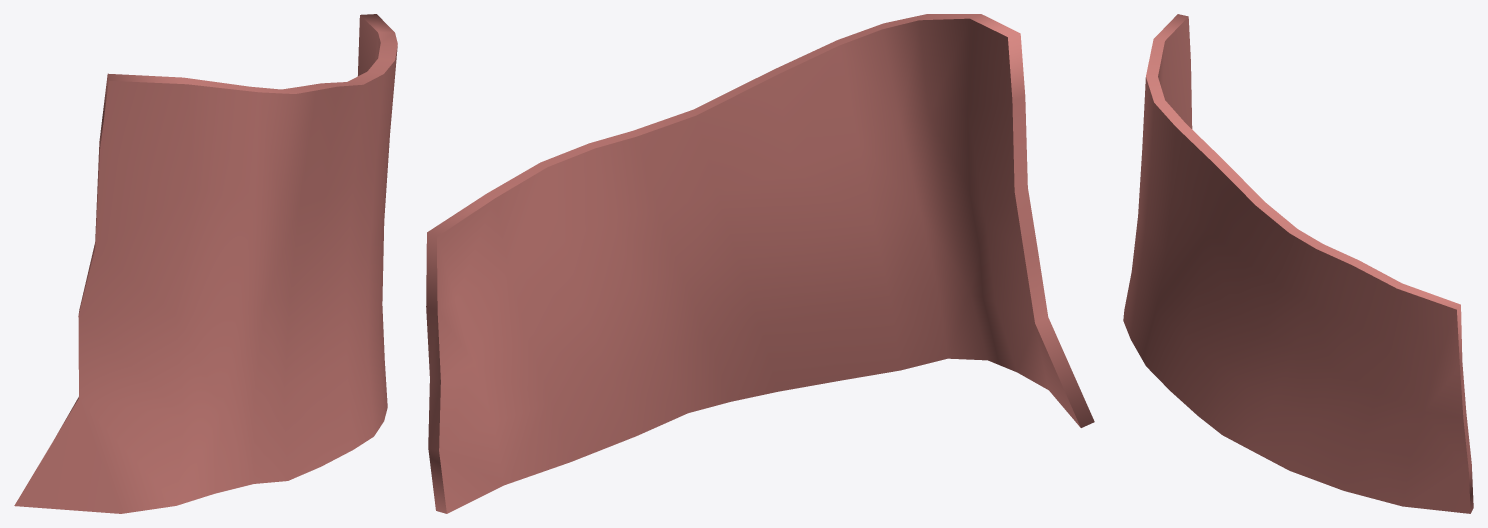
The picture shows the model from 3 angles, left to right: view 1: azimuth 30°, elevation 25°; view 2: azimuth 150°, elevation 25°; view 3: azimuth 270°, elevation 25°; orthographic projection. The views are drawn at different scales.
Parts seen in each view (by area): view 1: ZA_70c3c44b17a6afa9; view 2: ZA_70c3c44b17a6afa9; view 3: ZA_70c3c44b17a6afa9.
Part boxes in pixels (x1,y1,x2,y2): ZA_70c3c44b17a6afa9: [14, 14, 397, 513]; ZA_70c3c44b17a6afa9: [426, 14, 1094, 513]; ZA_70c3c44b17a6afa9: [1123, 14, 1473, 513].
Bounding box in the file's own units: 0.0373 × 0.0315 × 0.0289.
